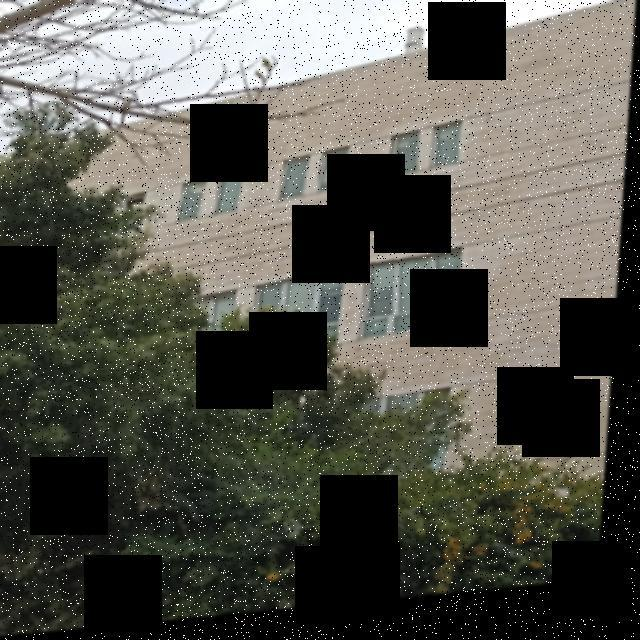Window: (342, 399, 455, 484), (367, 257, 468, 326), (148, 296, 242, 361), (260, 277, 352, 343), (394, 136, 426, 184), (321, 156, 352, 200), (218, 176, 250, 218), (183, 183, 210, 225), (123, 196, 150, 237), (436, 134, 462, 176), (285, 165, 311, 207)
